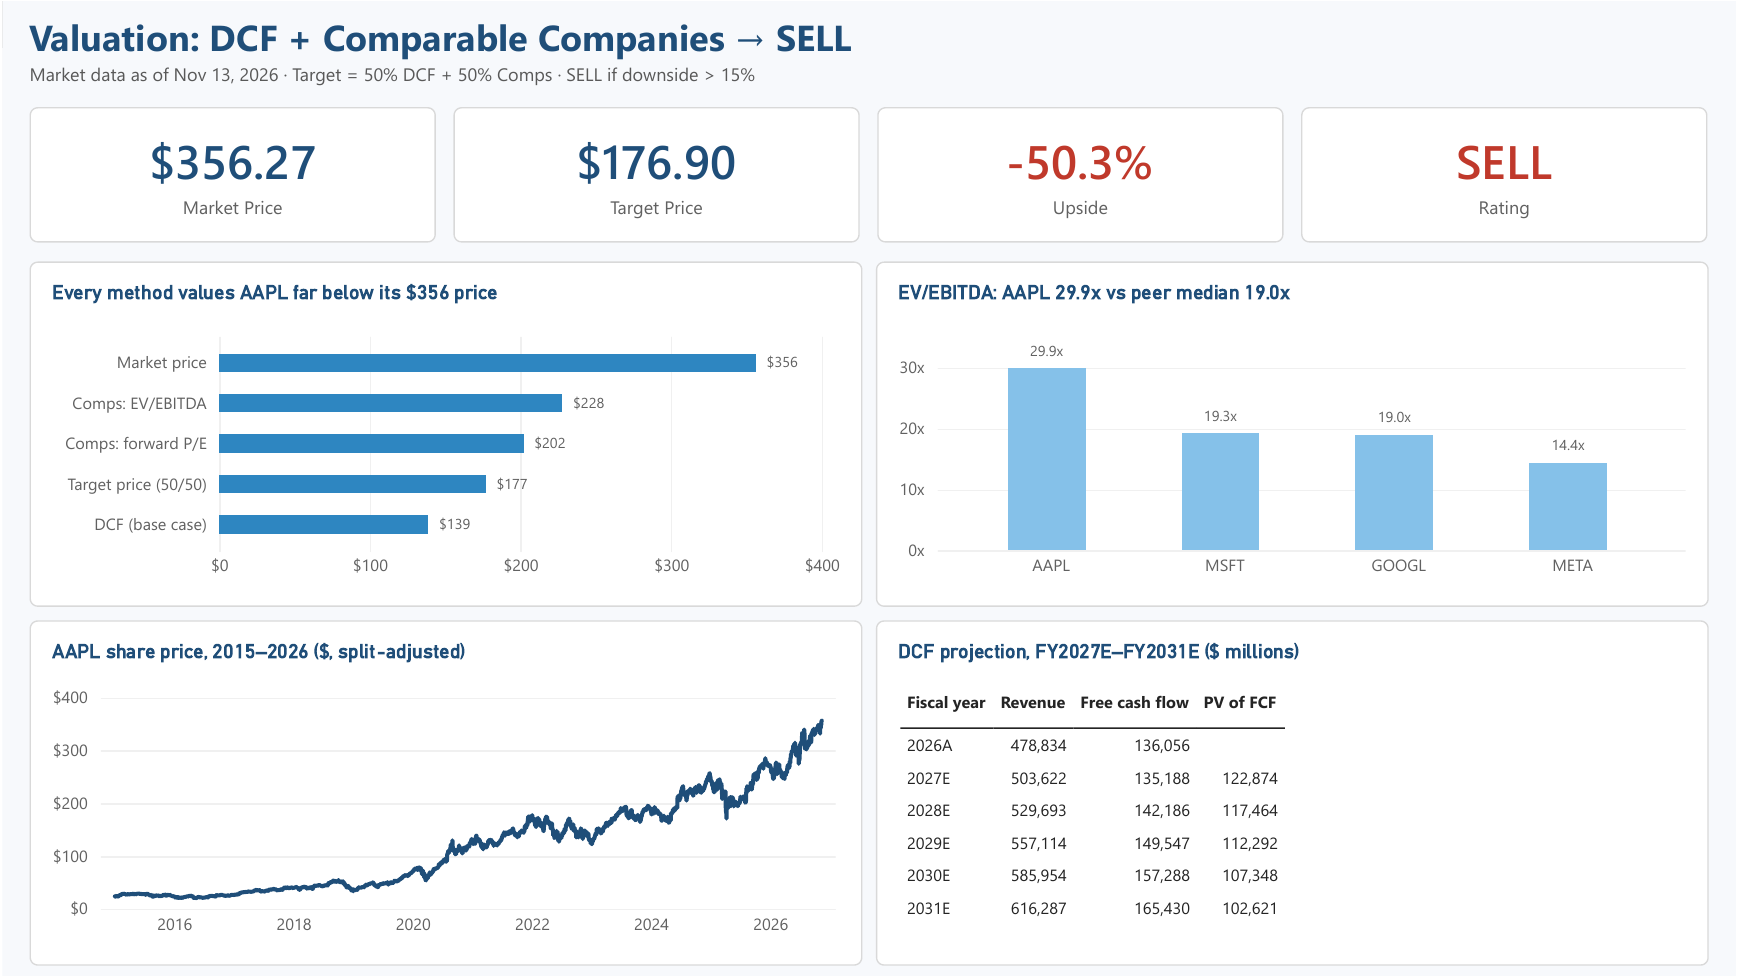

This screenshot's page, from the dashboard's own definition file:
{"tool":"powerbi","page":{"name":"Valuation","canvas":[1280,720],"ordinal":1},"visuals":[{"type":"textbox","box":[20,8,1000,62],"z":0},{"type":"card","fields":{"Values":["_Measures.Market Price"]},"box":[20,78,300,100],"z":1000},{"type":"card","fields":{"Values":["_Measures.Target Price"]},"box":[333,78,300,100],"z":2000},{"type":"card","fields":{"Values":["_Measures.Upside"]},"box":[646,78,300,100],"z":3000},{"type":"card","fields":{"Values":["_Measures.Rating"]},"box":[959,78,300,100],"z":4000},{"type":"clusteredBarChart","title":"Every method values AAPL far below its $356 price","fields":{"Category":["valuation_methods.method"],"Y":["Sum(valuation_methods.value)"]},"box":[20,192,615,255],"z":5000},{"type":"clusteredColumnChart","title":"EV/EBITDA: AAPL 29.9x vs peer median 19.0x","fields":{"Category":["peer_comps.ticker"],"Y":["Sum(peer_comps.ev_ebitda)"]},"box":[645,192,615,255],"z":6000},{"type":"lineChart","title":"AAPL share price, 2015–2026 ($, split-adjusted)","fields":{"Category":["price_data.date"],"Y":["_Measures.AAPL Close"]},"box":[20,457,615,255],"z":7000},{"type":"tableEx","title":"DCF projection, FY2027E–FY2031E ($ millions)","fields":{"Values":["dcf_projection.year","dcf_projection.revenue","dcf_projection.free_cash_flow","dcf_projection.pv_fcf"]},"box":[645,457,615,255],"z":8000}]}

Visuals, with their boxes in screenshot pixels (x1, y1, x2, y2), scaled from the page's 1280x720 canvas onto the 1739x978 screenshot:
textbox: region(27, 11, 1386, 95)
card - _Measures.Market Price: region(27, 106, 435, 242)
card - _Measures.Target Price: region(452, 106, 860, 242)
card - _Measures.Upside: region(878, 106, 1285, 242)
card - _Measures.Rating: region(1303, 106, 1710, 242)
"Every method values AAPL far below its $356 price" clusteredBarChart: region(27, 261, 863, 607)
"EV/EBITDA: AAPL 29.9x vs peer median 19.0x" clusteredColumnChart: region(876, 261, 1712, 607)
"AAPL share price, 2015–2026 ($, split-adjusted)" lineChart: region(27, 621, 863, 967)
"DCF projection, FY2027E–FY2031E ($ millions)" tableEx: region(876, 621, 1712, 967)
